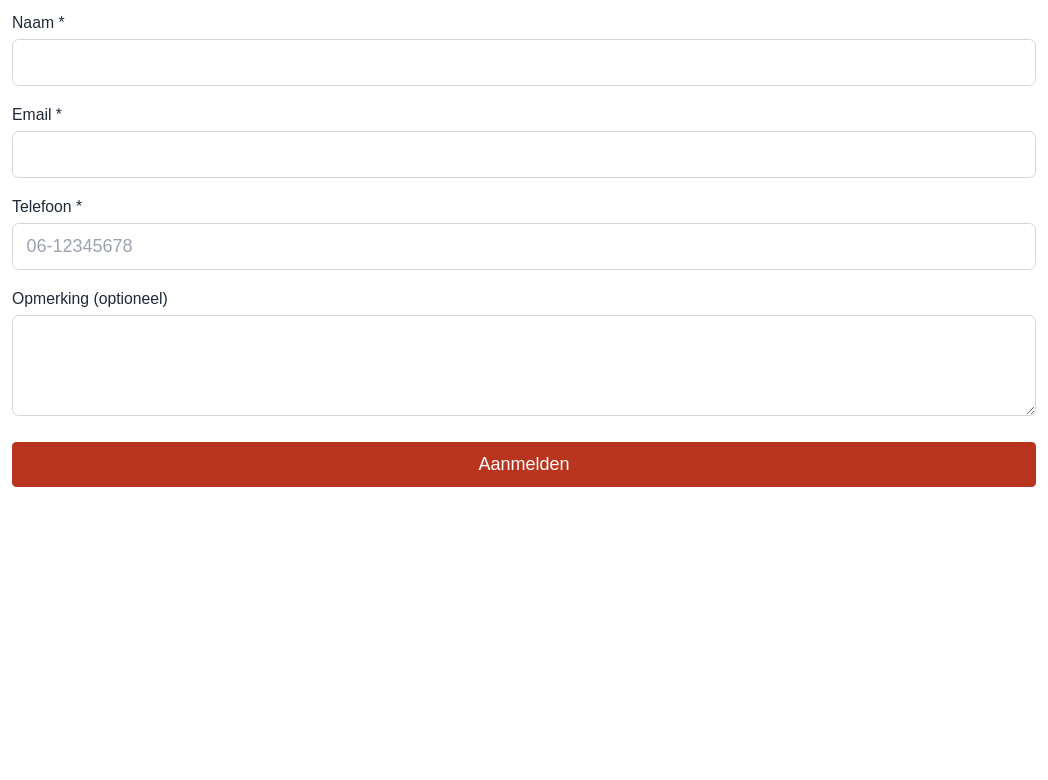
Test case: AanmeldForm Component › Form Validation › 5. Shows error message when API returns error
Type "John Doe" into the field labelled "Naam *" at (524,62), box [12, 39, 1036, 86]
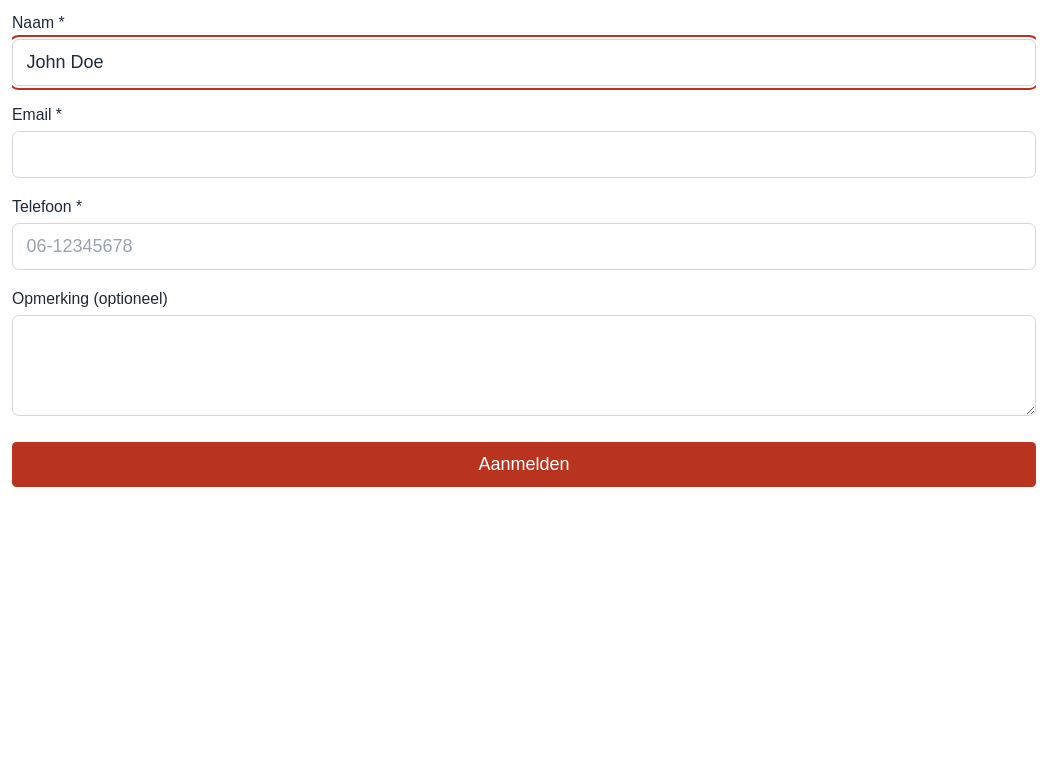
Type "john@example.com" into the field labelled "Email *" at (524,154), box [12, 131, 1036, 178]
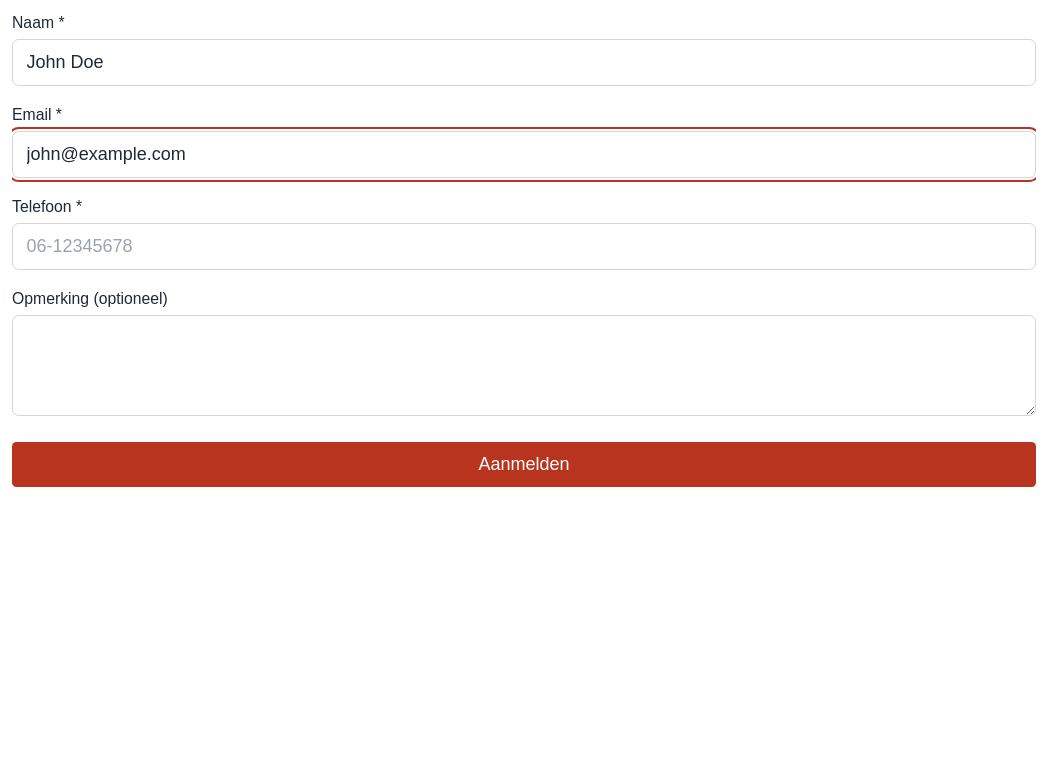
Type "0612345678" into the field labelled "Telefoon *" at (524,246), box [12, 223, 1036, 270]
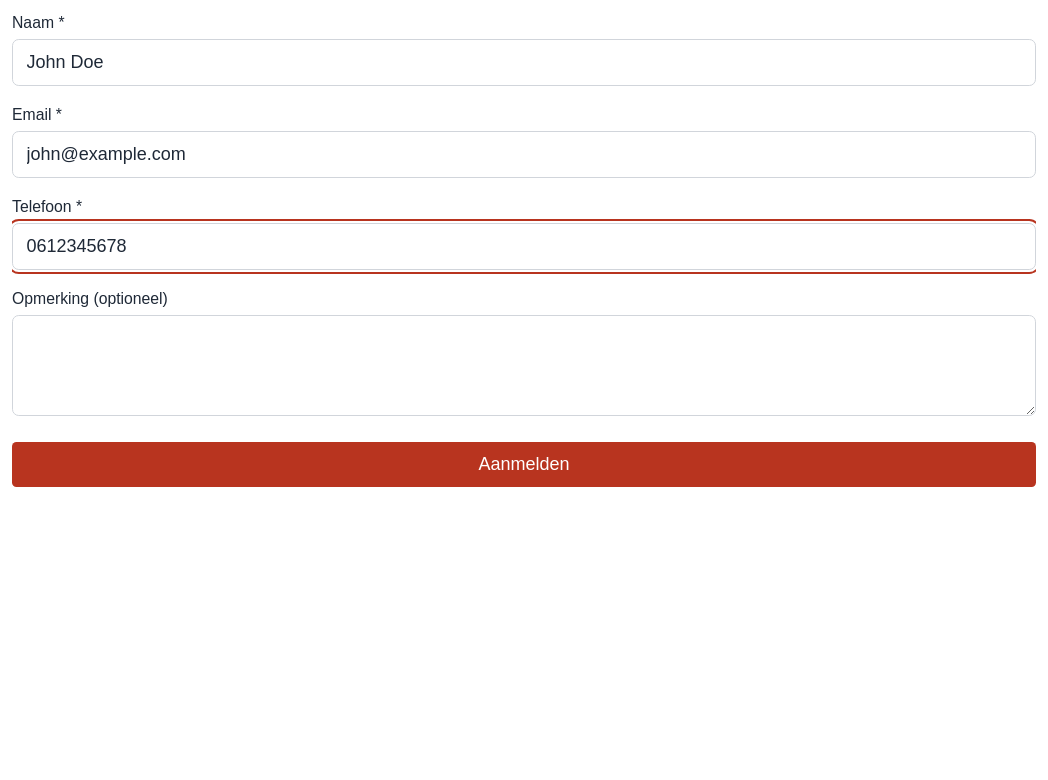
Click the button "Aanmelden" at (524,464), box [12, 442, 1036, 487]
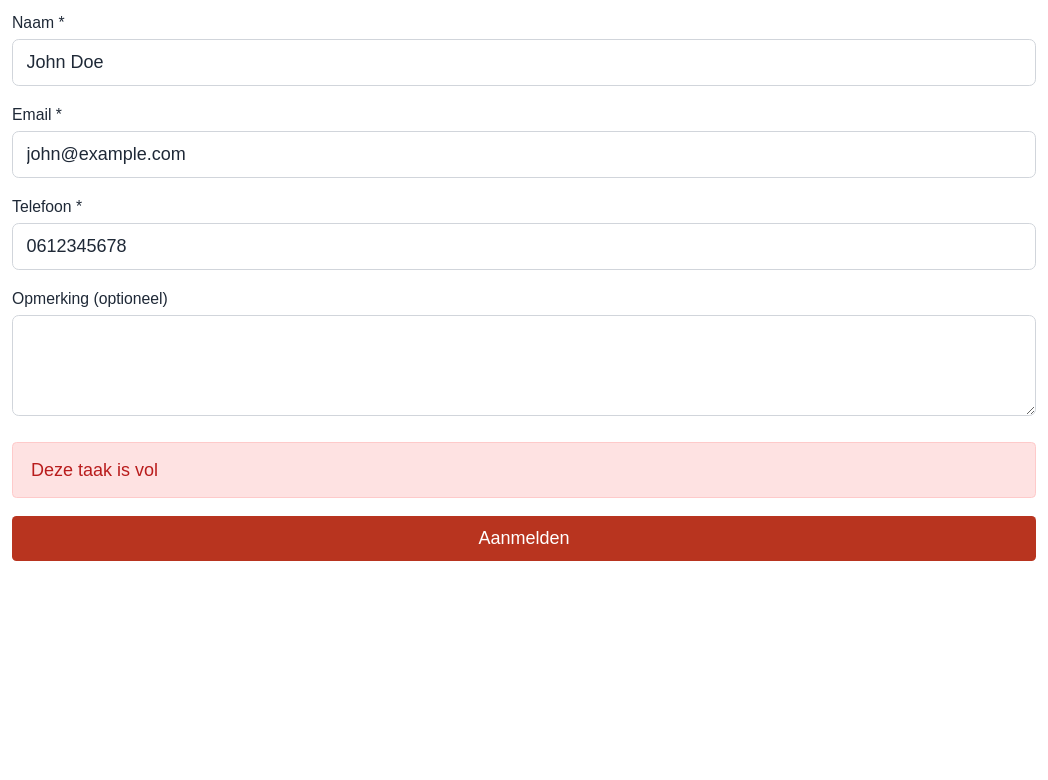
Expected: the text "Deze taak is vol" is shown, [12, 442, 1036, 498]
